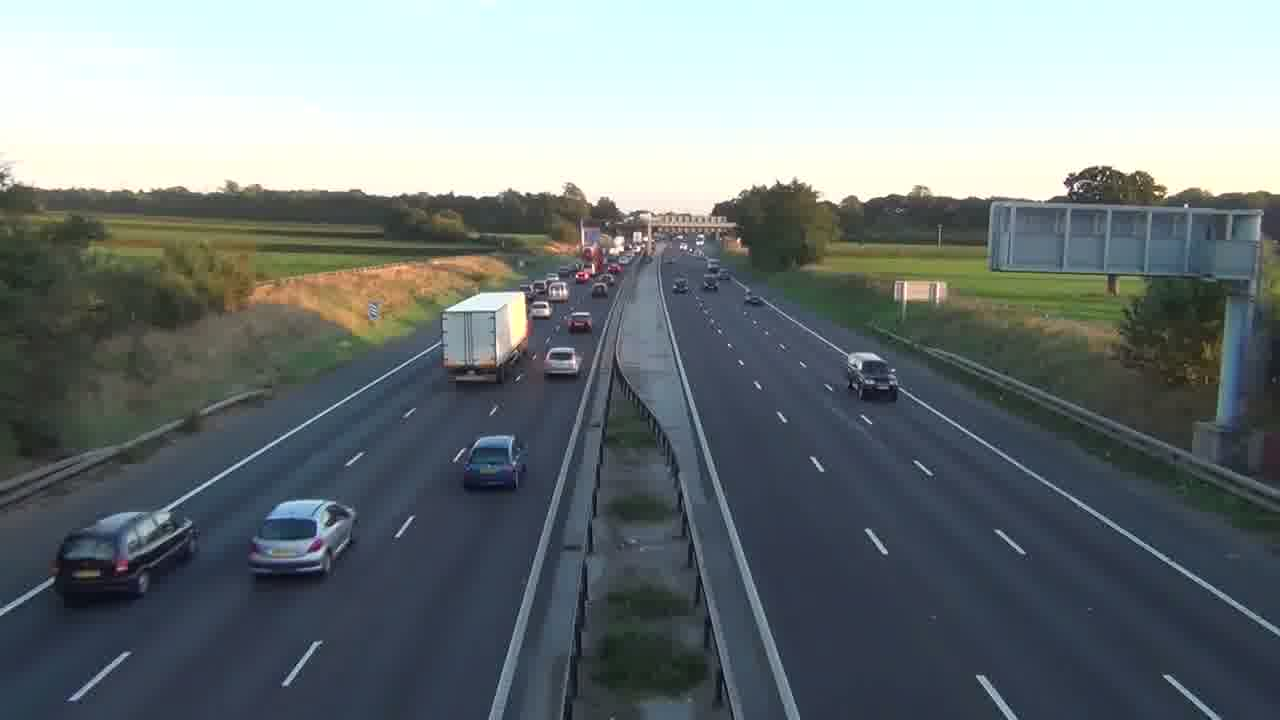car: (52, 507, 198, 607), (247, 498, 357, 579), (462, 434, 529, 490), (845, 351, 899, 401), (544, 346, 580, 376), (565, 310, 593, 334), (671, 277, 689, 294)
truck: (440, 291, 532, 384), (845, 351, 899, 401)
